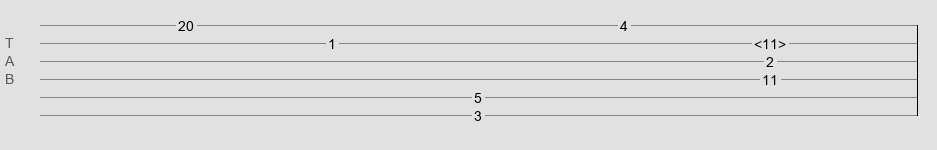1: (328, 36, 336, 46)
11: (762, 72, 778, 82)
2: (766, 54, 774, 64)
20: (178, 18, 194, 28)
3: (474, 108, 482, 118)
4: (620, 18, 628, 28)
5: (474, 90, 482, 100)
harmonic: (754, 36, 786, 46)
